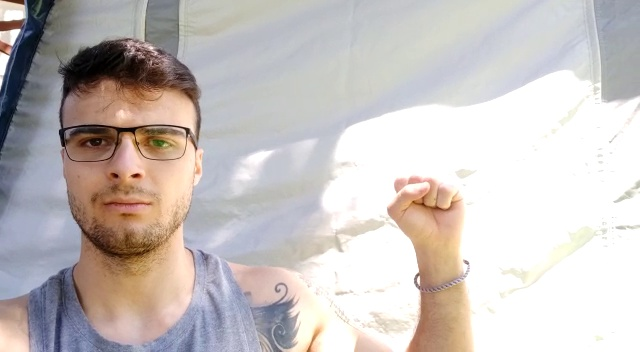Fist: (382, 170, 473, 250)
